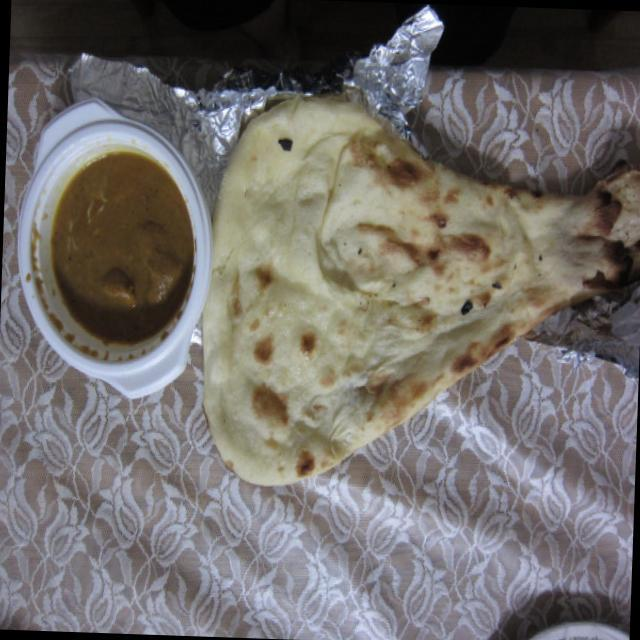Beef Curry: (44, 146, 189, 350)
